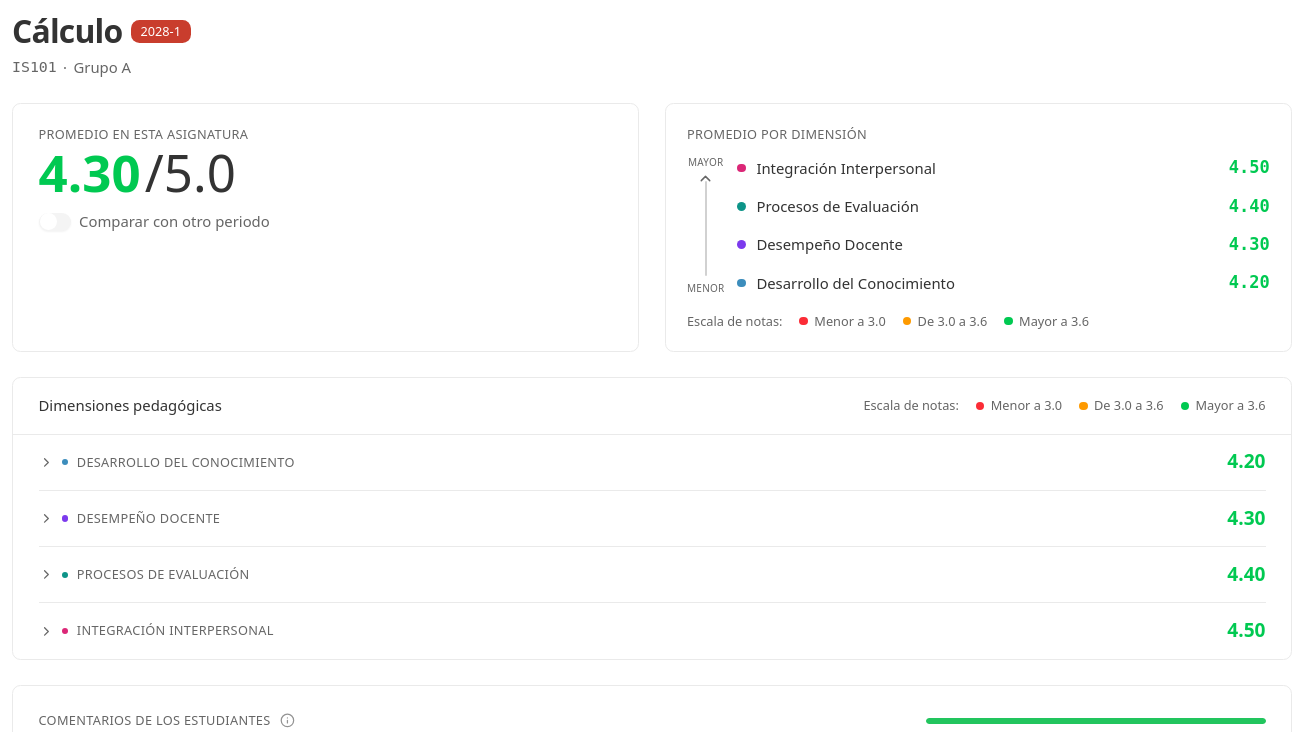
Test: CourseTeacherDetail › turns on the period comparison and shows mover badges against it
Expected: the heading "Cálculo" is shown, [12,12,122,50]
Click the checkbox "Comparar con otro periodo" at point(174, 222), box [79,211,270,232]
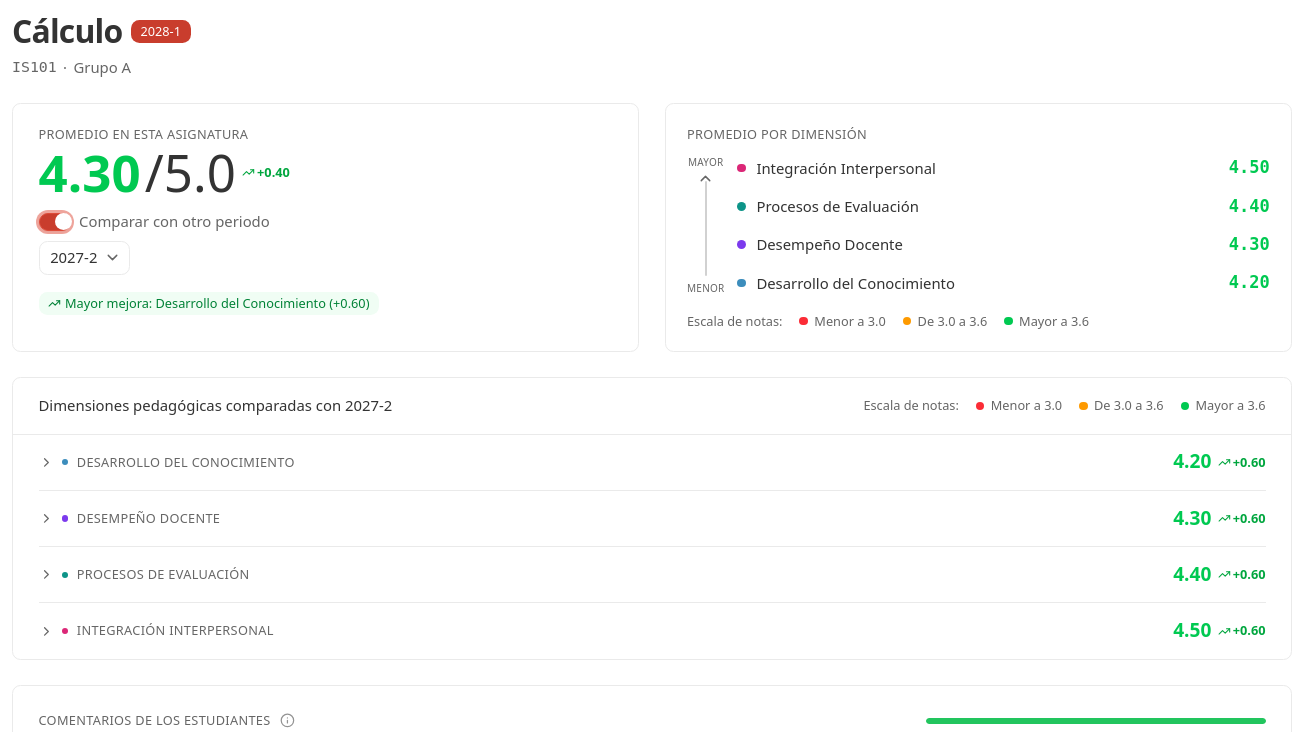
Expected: the heading "Dimensiones pedagógicas comparadas con 2027-2" is shown, [38,395,392,417]
Expected: the text "Mayor mejora: Desarrollo del Conocimiento (+0.60)" is shown, [38,292,379,315]
